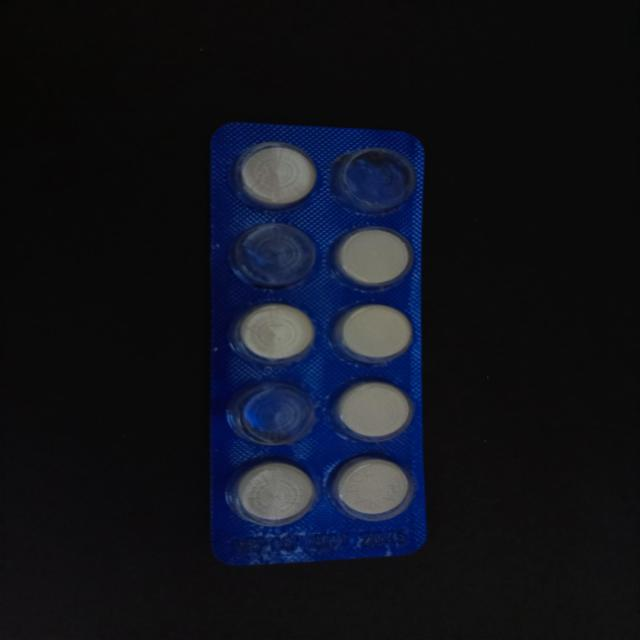defect: (224, 220, 320, 293), (328, 145, 418, 217), (224, 380, 319, 448)
